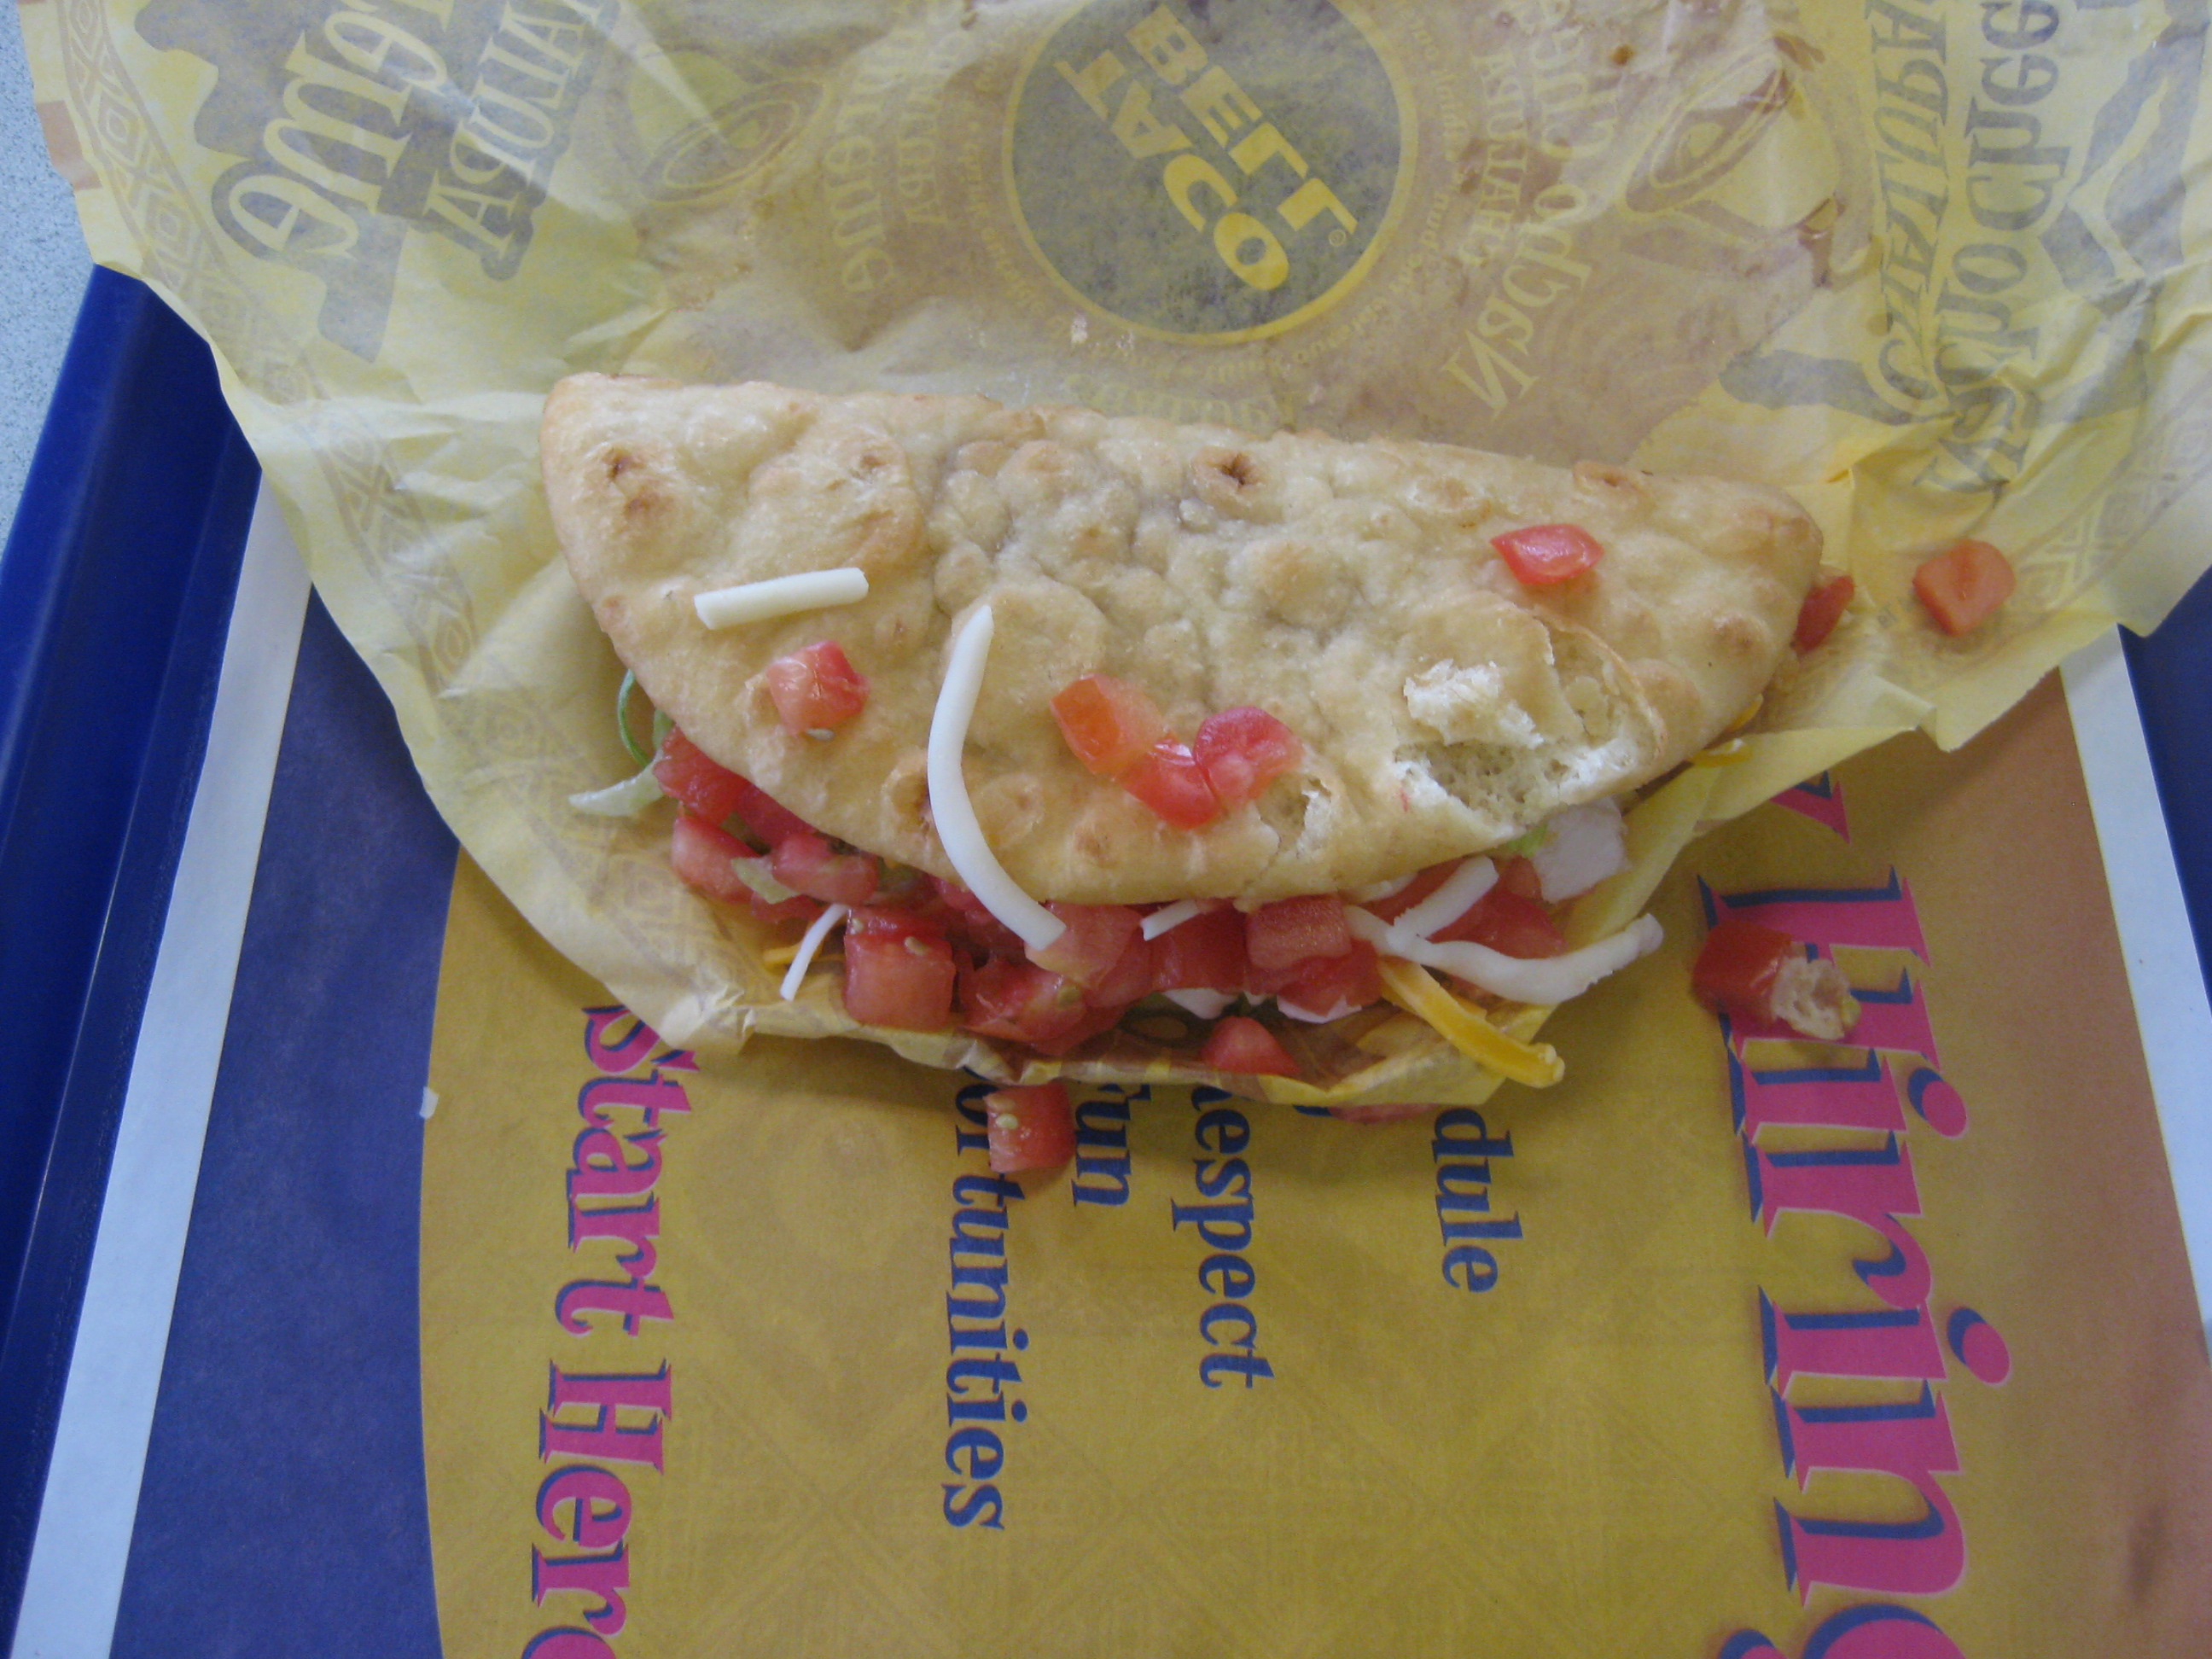taco: (486, 309, 1864, 1015)
